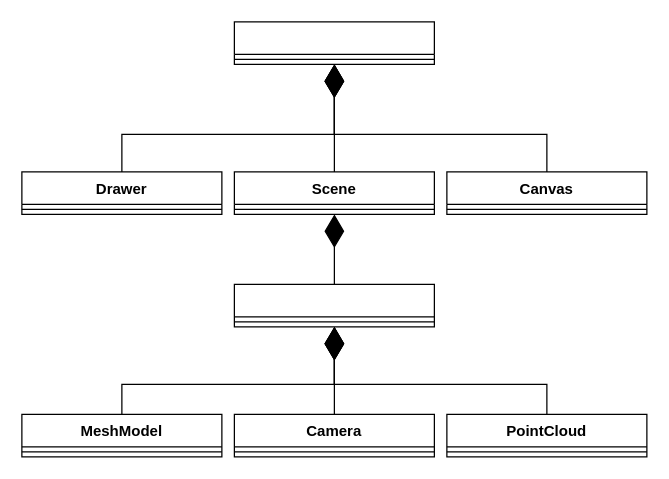
Image size: 669x479. Some labels were removed from this diagram. The box of each missing label's shape, as (x1, y1, x2, y2) in pixels:
MainWindow: (233, 21, 434, 64)
Object: (233, 283, 434, 327)
